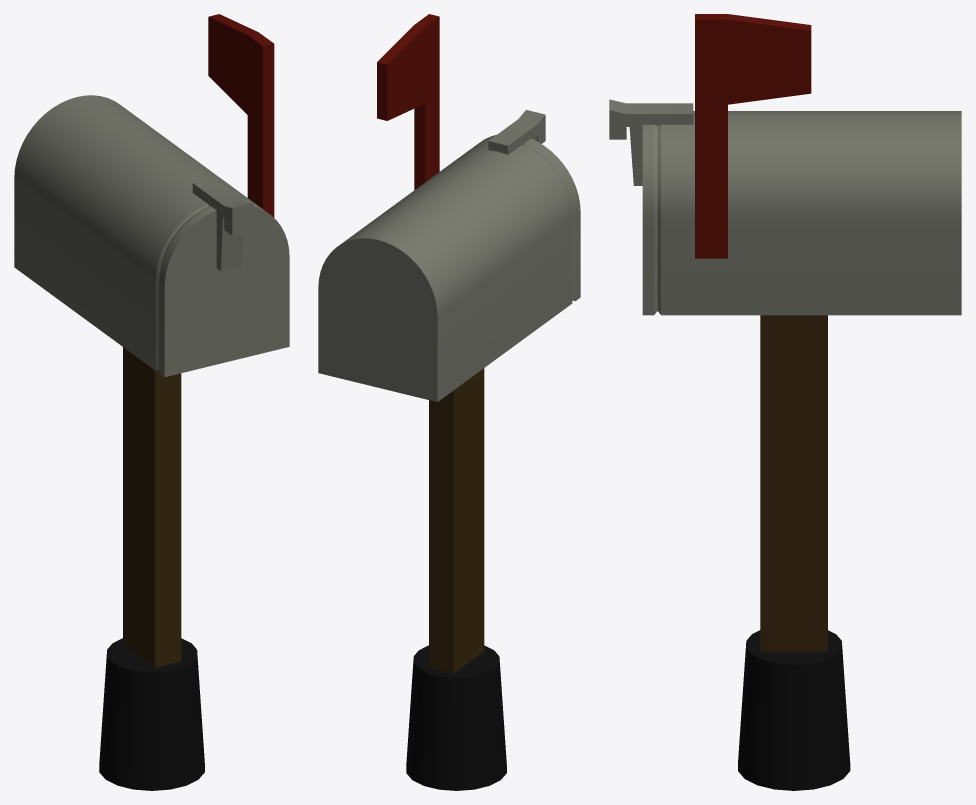
Rendered from mailbox.fbx.
3 views of the same model, side by side, from view 1: azimuth 30°, elevation 25°; view 2: azimuth 150°, elevation 25°; view 3: azimuth 270°, elevation 25° (orthographic). The views are drawn at different scales.
Parts seen in each view (by area): view 1: mailbox, mailboxarm; view 2: mailbox, mailboxarm; view 3: mailbox, mailboxarm.
Part boxes in pixels (x1,y1,x2,y2): mailbox: (14,95,289,790); mailboxarm: (208,14,274,217); mailbox: (318,110,580,790); mailboxarm: (377,14,439,189); mailbox: (609,99,961,790); mailboxarm: (695,14,811,258).
Size of the model in its own units: 76.5 by 403 by 164.
